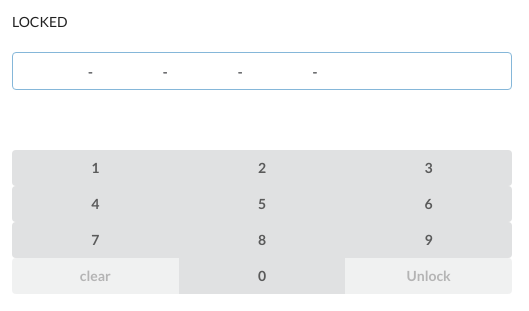
it: If you make 3 incorrect unlock entry attempts, display a message “Too many incorrect attempts” and hide the keypad
Step 1. Type "1111" into the password field with placeholder "----" → (262, 71), box [12,52,512,90]
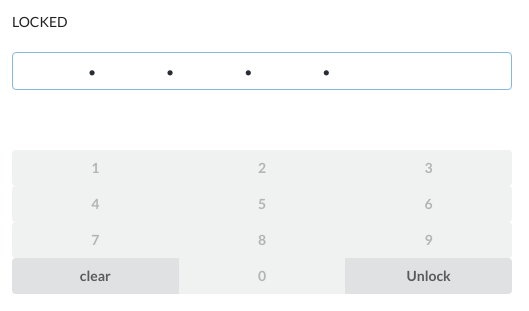
Step 2. Click the button "Unlock" → (429, 276), box [345,258,512,294]
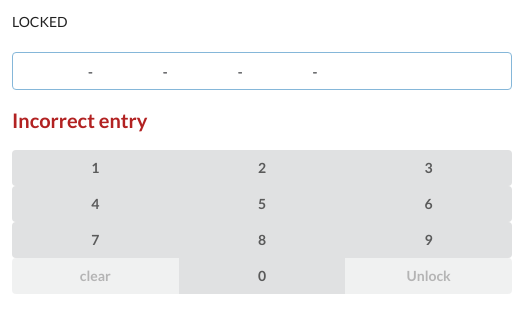
Step 3. Type "2222" into the password field with placeholder "----" → (262, 71), box [12,52,512,90]
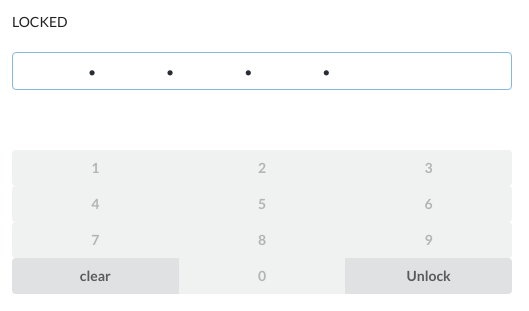
Step 4. Click the button "Unlock" → (429, 276), box [345,258,512,294]
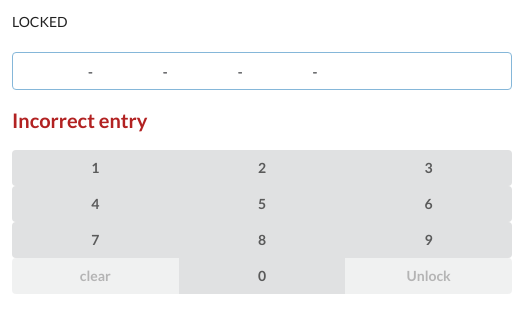
Step 5. Type "3333" into the password field with placeholder "----" → (262, 71), box [12,52,512,90]
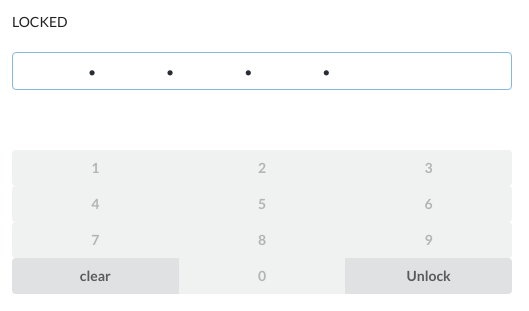
Step 6. Click the button "Unlock" → (429, 276), box [345,258,512,294]
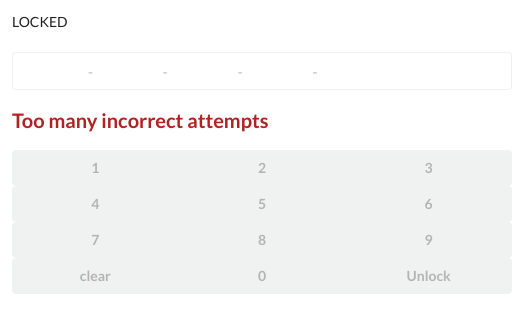
Expected: the text "Too many incorrect attempts" is shown, [12,108,268,132]
